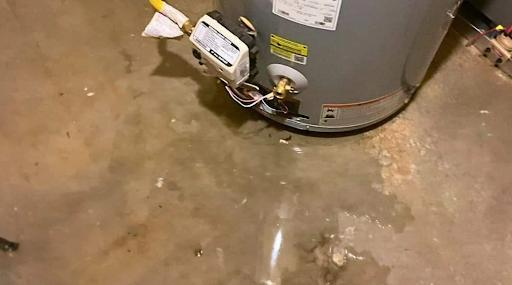water accumulation: (0, 0, 415, 284)
